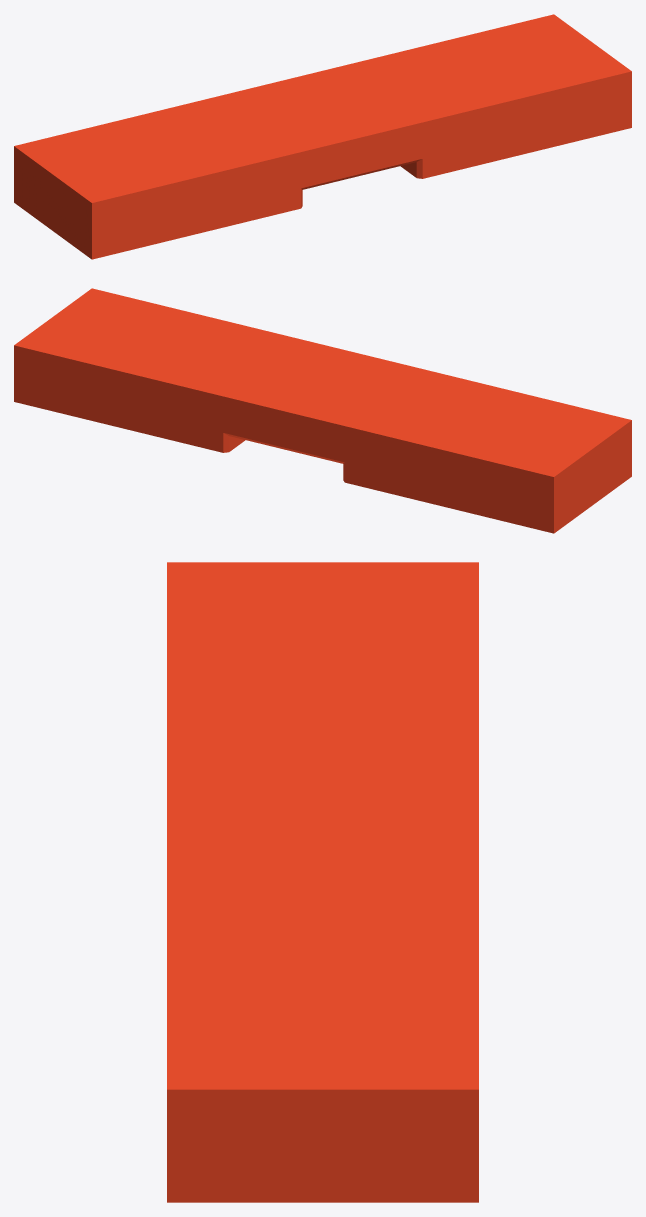
File: SM_Skate_Pad_B_City.fbx
The picture shows the model from 3 angles, top to bottom: view 1: azimuth 30°, elevation 25°; view 2: azimuth 150°, elevation 25°; view 3: azimuth 270°, elevation 25°; orthographic projection. The views are drawn at different scales.
Visible parts, largest first — view 1: SM_Skate_Pad_B_City; view 2: SM_Skate_Pad_B_City; view 3: SM_Skate_Pad_B_City.
Boxes of the visible parts, bbox=[...] form: SM_Skate_Pad_B_City: bbox=[14, 14, 631, 259]; SM_Skate_Pad_B_City: bbox=[14, 288, 631, 533]; SM_Skate_Pad_B_City: bbox=[167, 562, 478, 1202].
Size of the model in its own units: 2 by 0.2 by 0.5.
